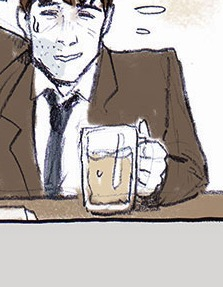beer: (76, 121, 146, 216)
can: (77, 116, 138, 217)
